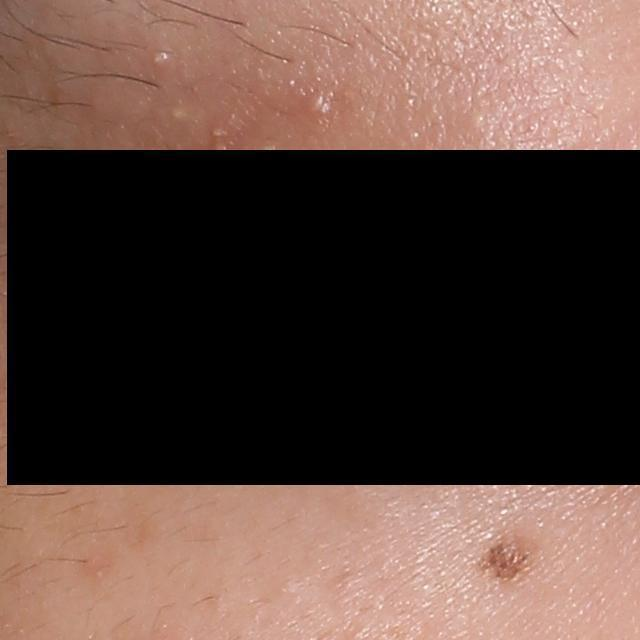nevus: (464, 531, 537, 584)
other: (304, 89, 336, 124), (147, 45, 174, 71), (165, 102, 191, 126)
